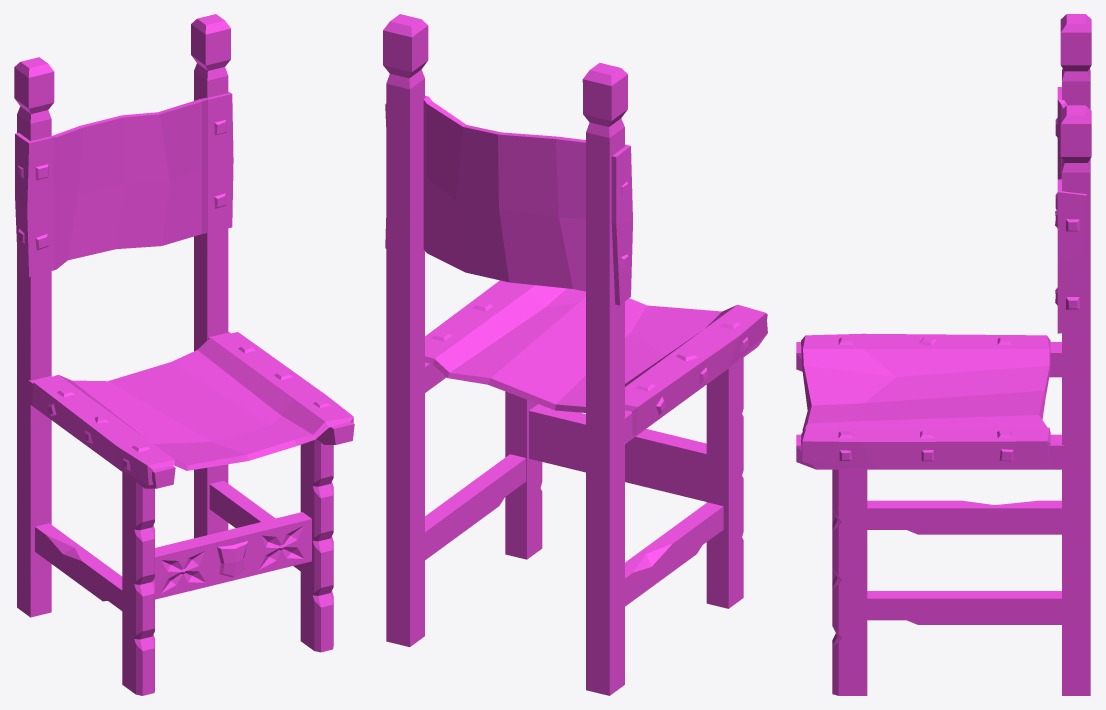
Rendered from SM_Chair_Leather_A_Fantasy.fbx.
3 renders of one model, left to right at view 1: azimuth 30°, elevation 25°; view 2: azimuth 150°, elevation 25°; view 3: azimuth 270°, elevation 25°, orthographic. The views are drawn at different scales.
Visible parts, largest first — view 1: SM_Chair_Leather_A_Fantasy; view 2: SM_Chair_Leather_A_Fantasy; view 3: SM_Chair_Leather_A_Fantasy.
Boxes of the visible parts, box(x1,y1,x2,y2) form: SM_Chair_Leather_A_Fantasy: box(14, 14, 354, 695); SM_Chair_Leather_A_Fantasy: box(383, 14, 767, 695); SM_Chair_Leather_A_Fantasy: box(796, 14, 1091, 695).
Bounding box in the file's own units: 0.4444 × 1.1 × 0.509.
